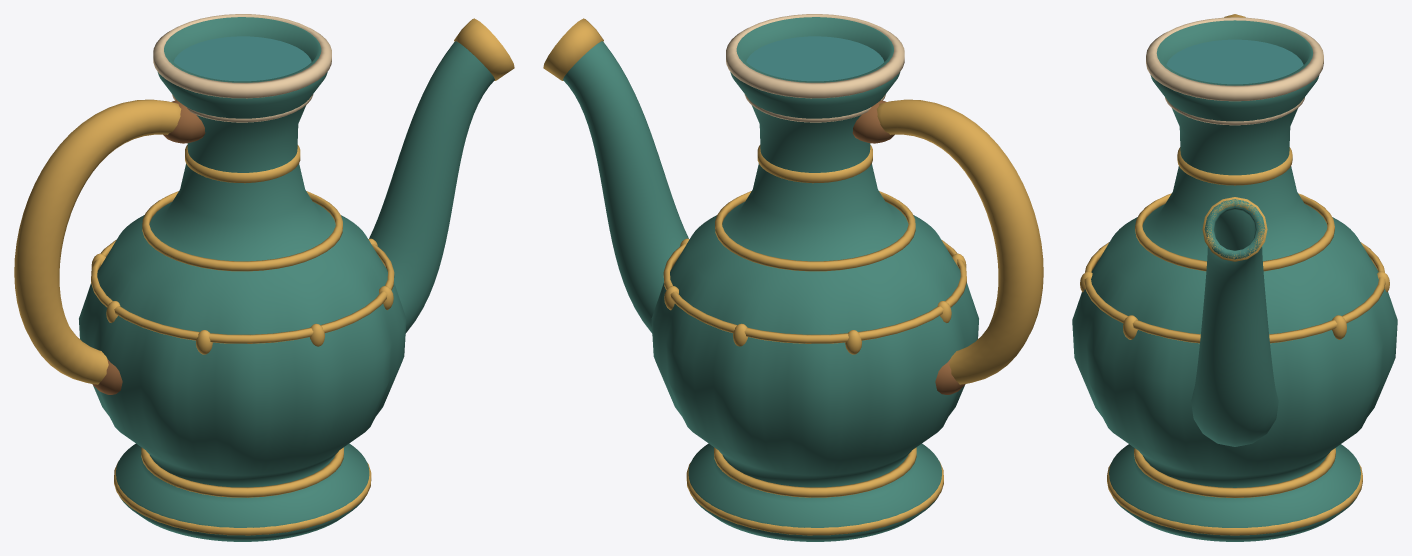
Rendered from rite-water-ewer.glb.
3 renders of one model, left to right at view 1: azimuth 30°, elevation 25°; view 2: azimuth 150°, elevation 25°; view 3: azimuth 270°, elevation 25°, orthographic.
Visible parts, largest first — view 1: Varuna ewer | raised body, Raised loop handle, Hollow rising spout, Water below the lip, Ewer silvered rim.006, Ewer silvered rim.002, Ewer silvered rim.003, Ewer silvered rim.001, Ewer silvered rim, Rolled spout rim, Ewer silvered rim.004, Soldered joint; view 2: Varuna ewer | raised body, Raised loop handle, Hollow rising spout, Water below the lip, Ewer silvered rim.006, Ewer silvered rim.002, Ewer silvered rim.003, Ewer silvered rim.001, Ewer silvered rim, Rolled spout rim, Ewer silvered rim.004, Soldered joint; view 3: Varuna ewer | raised body, Hollow rising spout, Water below the lip, Ewer silvered rim.006, Ewer silvered rim.002, Ewer silvered rim.003, Ewer silvered rim.001, Ewer silvered rim, Ewer silvered rim.004, Rolled spout rim, Ewer silvered rim.005.
Boxes of the visible parts, left/top/right/bottom form: Varuna ewer | raised body: left=79, top=17, right=406, bottom=541; Raised loop handle: left=14, top=99, right=181, bottom=384; Hollow rising spout: left=369, top=41, right=494, bottom=333; Water below the lip: left=173, top=36, right=311, bottom=81; Ewer silvered rim.006: left=153, top=14, right=331, bottom=98; Ewer silvered rim.002: left=91, top=239, right=394, bottom=343; Ewer silvered rim.003: left=142, top=191, right=342, bottom=271; Ewer silvered rim.001: left=141, top=447, right=343, bottom=497; Ewer silvered rim: left=114, top=461, right=371, bottom=535; Rolled spout rim: left=454, top=18, right=514, bottom=80; Ewer silvered rim.004: left=185, top=145, right=300, bottom=183; Soldered joint: left=163, top=100, right=205, bottom=143; Varuna ewer | raised body: left=651, top=17, right=978, bottom=541; Raised loop handle: left=876, top=99, right=1043, bottom=384; Hollow rising spout: left=563, top=41, right=688, bottom=333; Water below the lip: left=746, top=36, right=884, bottom=81; Ewer silvered rim.006: left=726, top=14, right=904, bottom=98; Ewer silvered rim.002: left=663, top=240, right=966, bottom=343; Ewer silvered rim.003: left=715, top=191, right=915, bottom=271; Ewer silvered rim.001: left=714, top=447, right=916, bottom=497; Ewer silvered rim: left=686, top=461, right=943, bottom=535; Rolled spout rim: left=543, top=18, right=603, bottom=80; Ewer silvered rim.004: left=757, top=145, right=872, bottom=183; Soldered joint: left=852, top=100, right=894, bottom=143; Varuna ewer | raised body: left=1072, top=20, right=1397, bottom=541; Hollow rising spout: left=1191, top=199, right=1278, bottom=446; Water below the lip: left=1166, top=39, right=1303, bottom=84; Ewer silvered rim.006: left=1146, top=17, right=1323, bottom=101; Ewer silvered rim.002: left=1084, top=242, right=1385, bottom=343; Ewer silvered rim.003: left=1135, top=193, right=1334, bottom=271; Ewer silvered rim.001: left=1134, top=448, right=1335, bottom=497; Ewer silvered rim: left=1107, top=464, right=1362, bottom=535; Ewer silvered rim.004: left=1177, top=147, right=1292, bottom=185; Rolled spout rim: left=1202, top=197, right=1267, bottom=261; Ewer silvered rim.005: left=1165, top=97, right=1304, bottom=125.
Bounding box in the file's own units: 0.5178 × 0.448 × 0.3.
